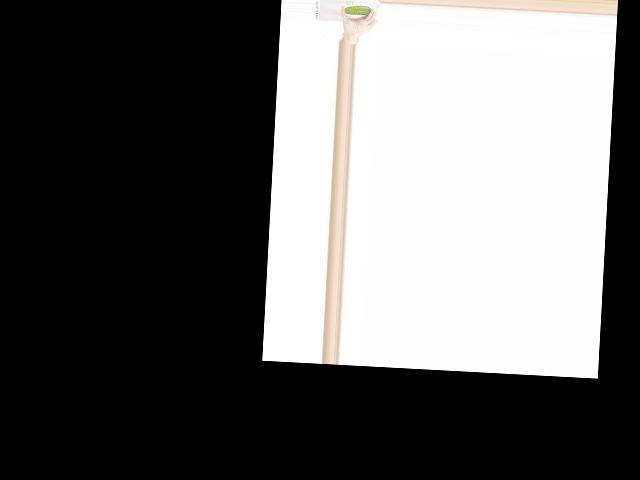cucumber: (343, 5, 371, 16)
